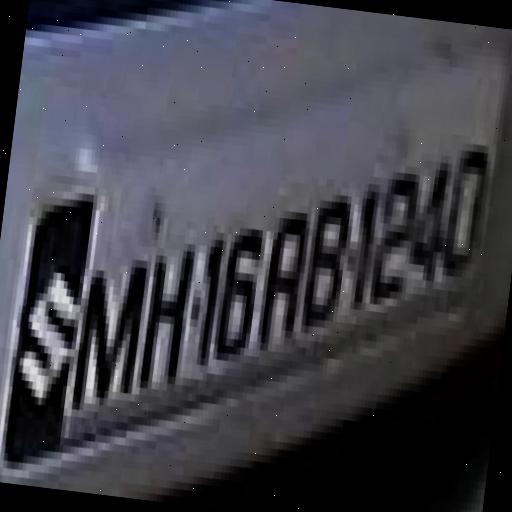number plate: (0, 147, 512, 438)
